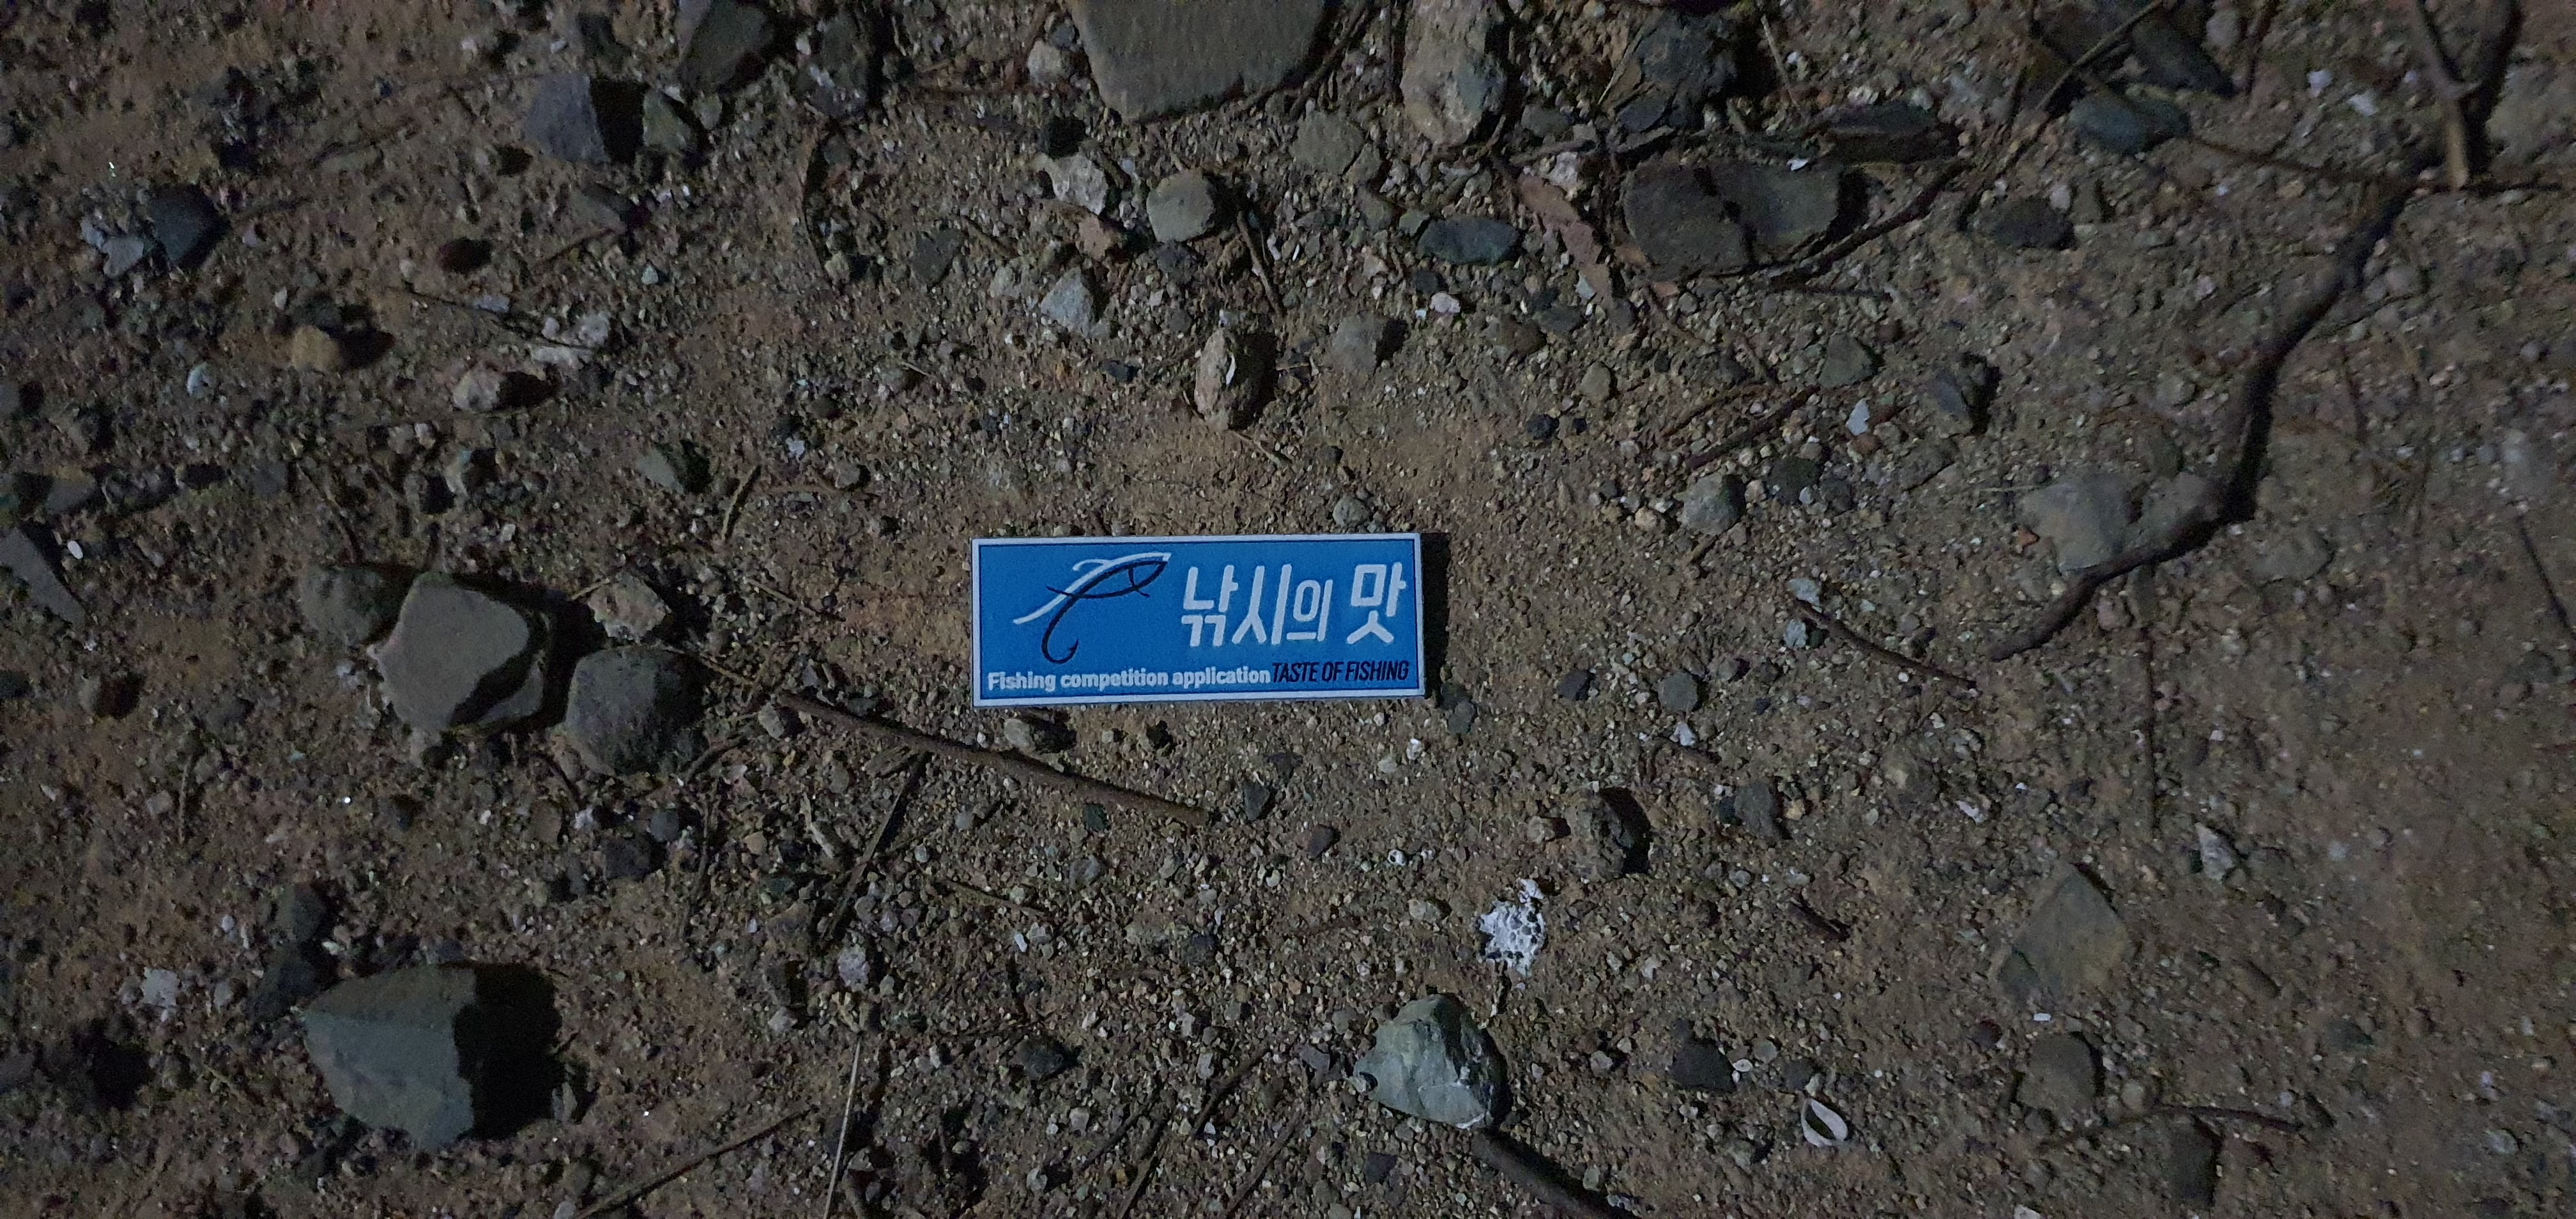tag: (969, 539, 1433, 701)
